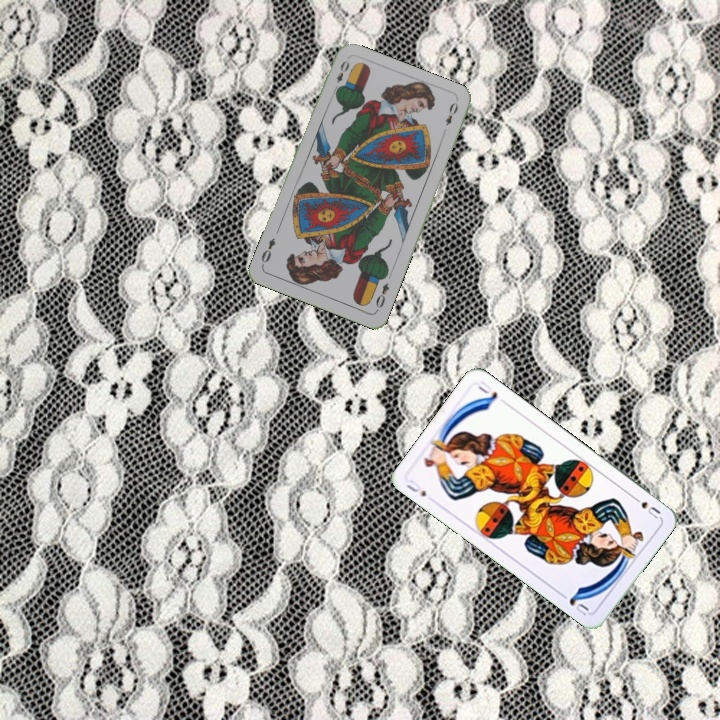EO: (329, 56, 352, 95), (372, 279, 392, 314)
SU: (628, 492, 663, 521), (402, 476, 429, 500)
